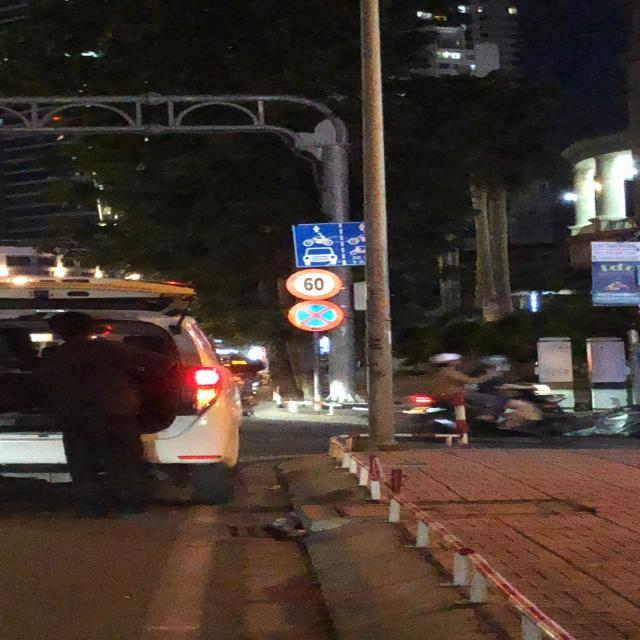Bien bao toc do toi da cho phep: (284, 266, 346, 301), (288, 300, 346, 334)
